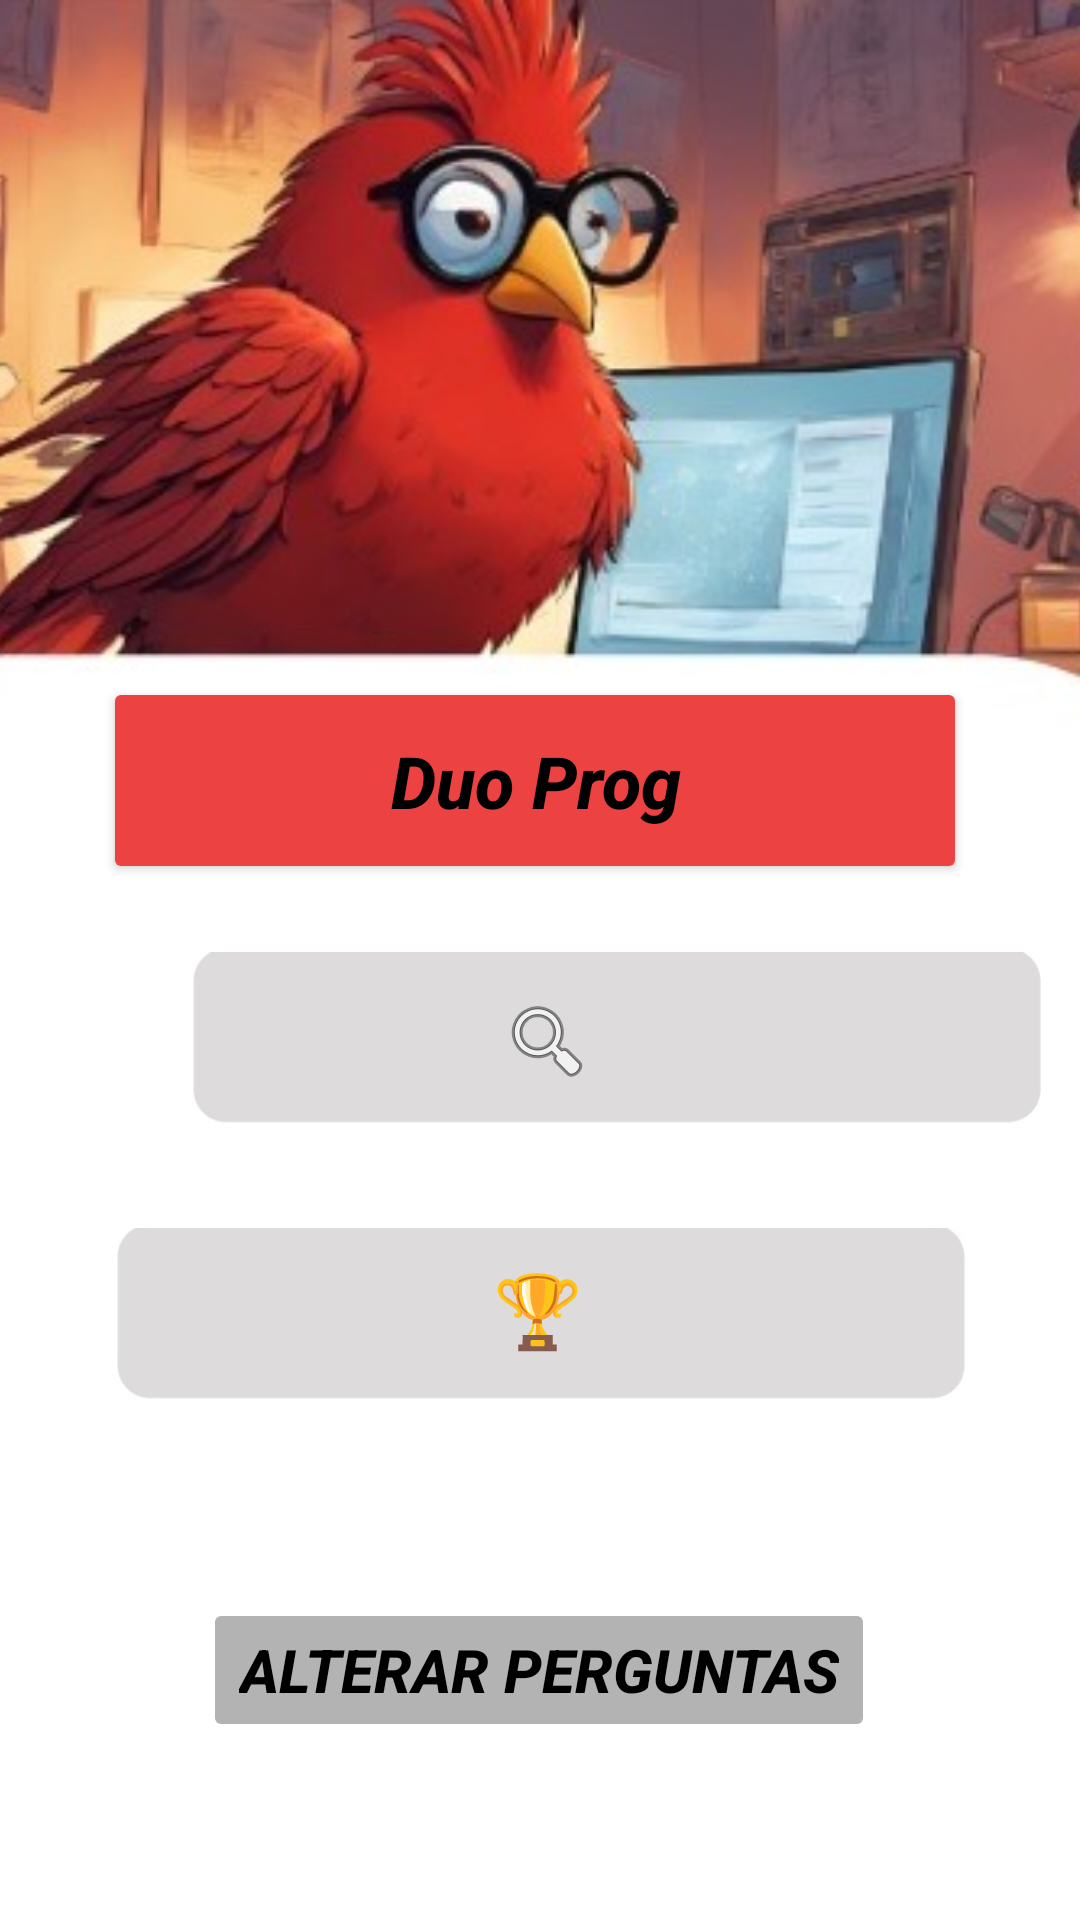

Icons on this 1080 x 1920 Android screen, each with the point to tap as (x,y):
search: (547,1041)
